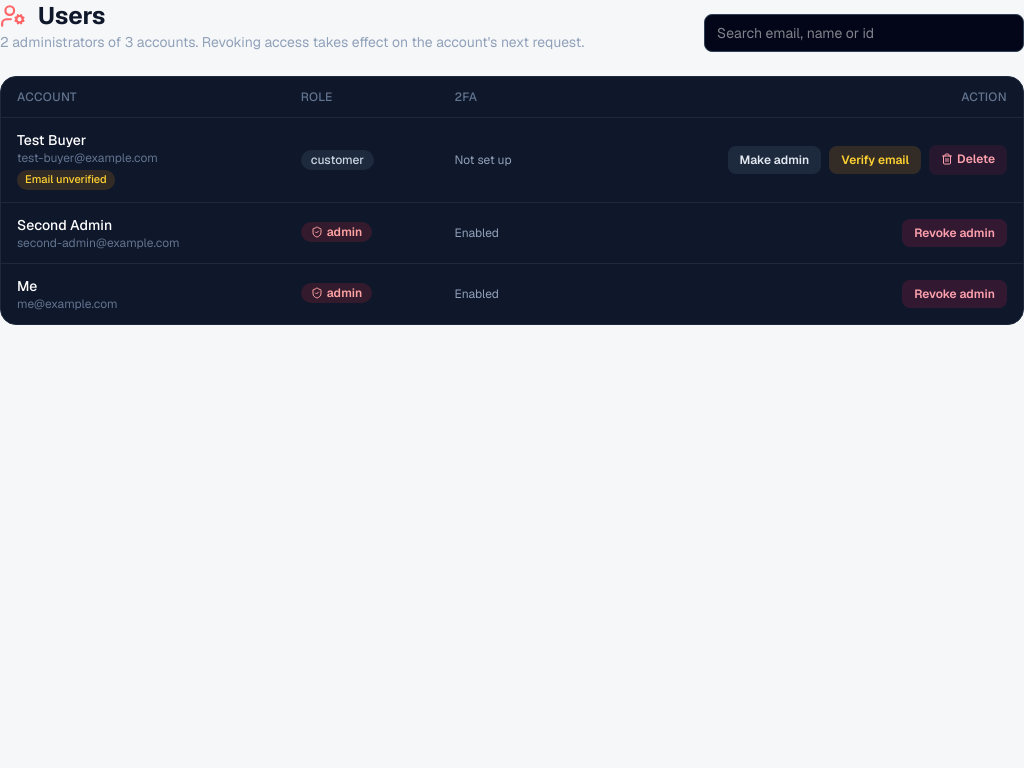
AdminUsersPage: delete account › keeps deletion inert until the address is typed and a reason is given
Click the button "Delete" at (968, 160), box x1=929 y1=145 x2=1007 y2=175
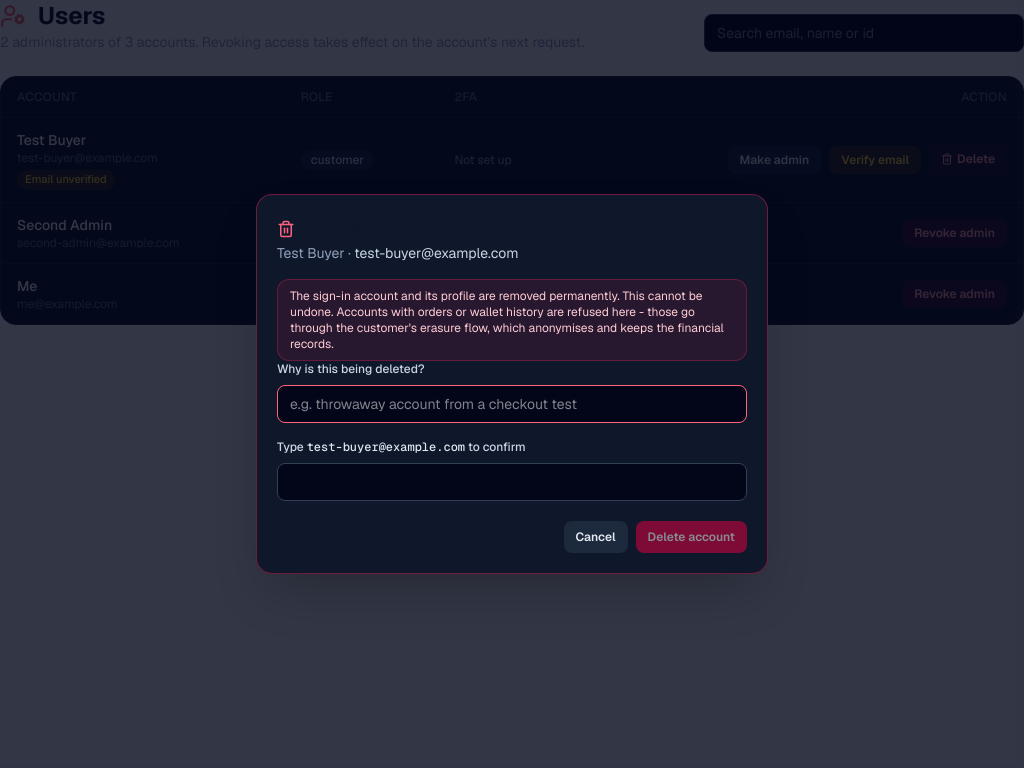
Expected: the button "Delete account" is disabled, x1=636 y1=521 x2=747 y2=553
Type "throwaway checkout test" into the field labelled "Why is this being deleted?" at (512, 404), box x1=277 y1=385 x2=747 y2=423
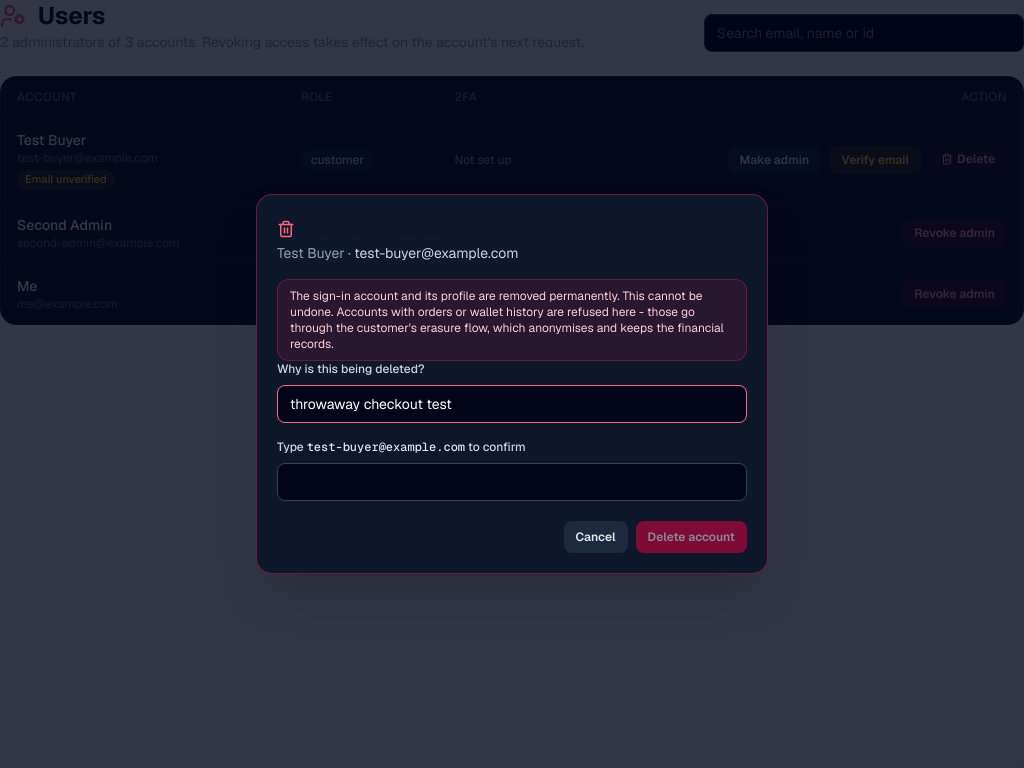
Expected: the button "Delete account" is disabled, x1=636 y1=521 x2=747 y2=553
Type "test-buyer@example.com" into the field labelled "Type test-buyer@example.com to confirm" at (512, 482), box x1=277 y1=463 x2=747 y2=501
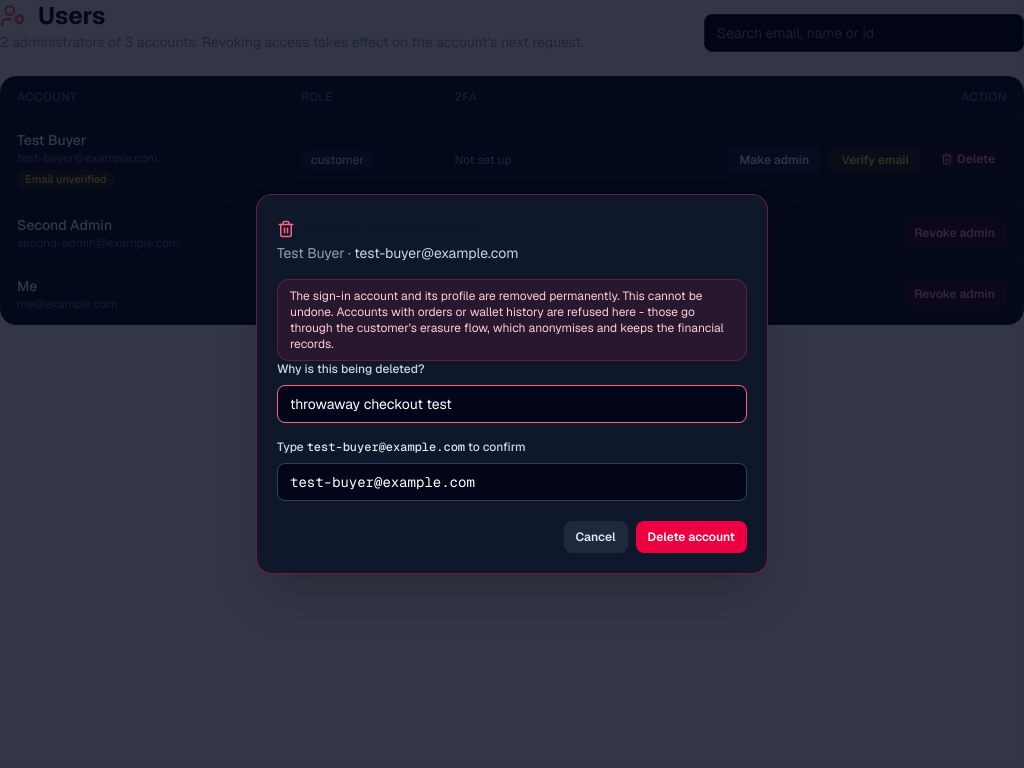
Expected: the button "Delete account" is enabled, x1=636 y1=521 x2=747 y2=553
